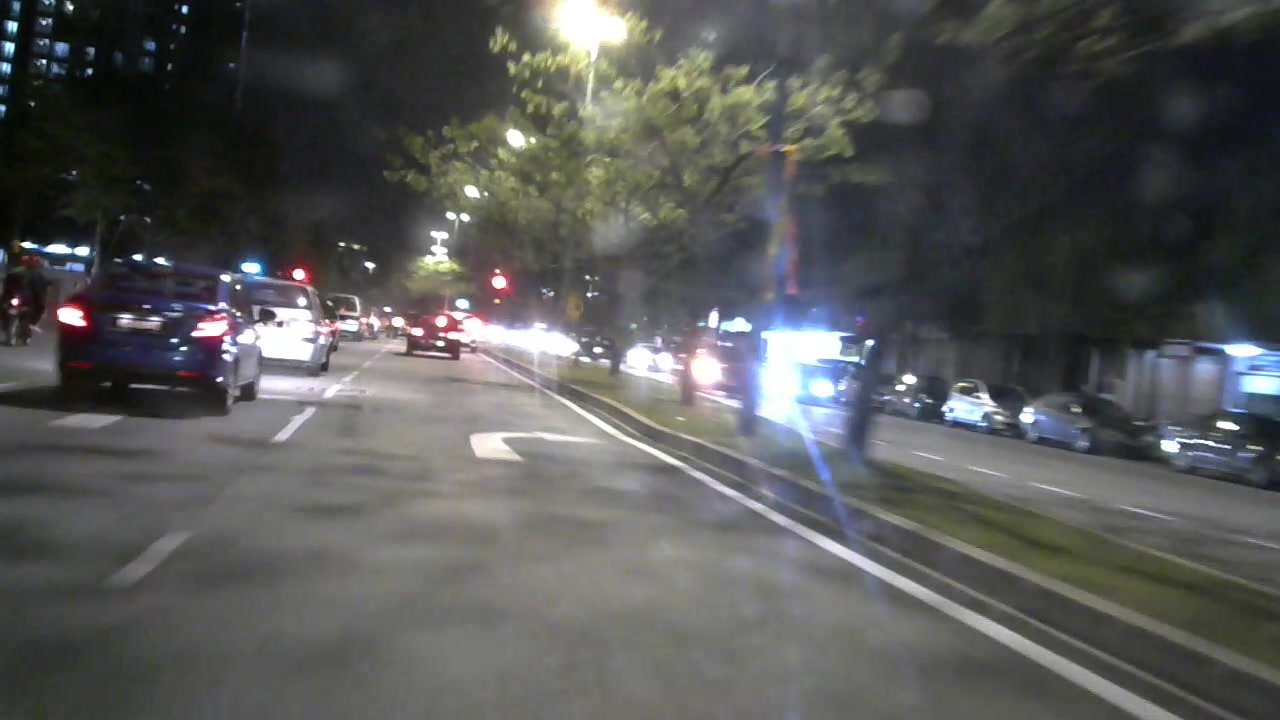Car: (38, 261, 268, 410), (1156, 412, 1276, 484), (250, 274, 325, 380), (1022, 383, 1124, 460), (685, 330, 757, 402), (942, 372, 1017, 437), (401, 308, 470, 362), (324, 289, 371, 340)
